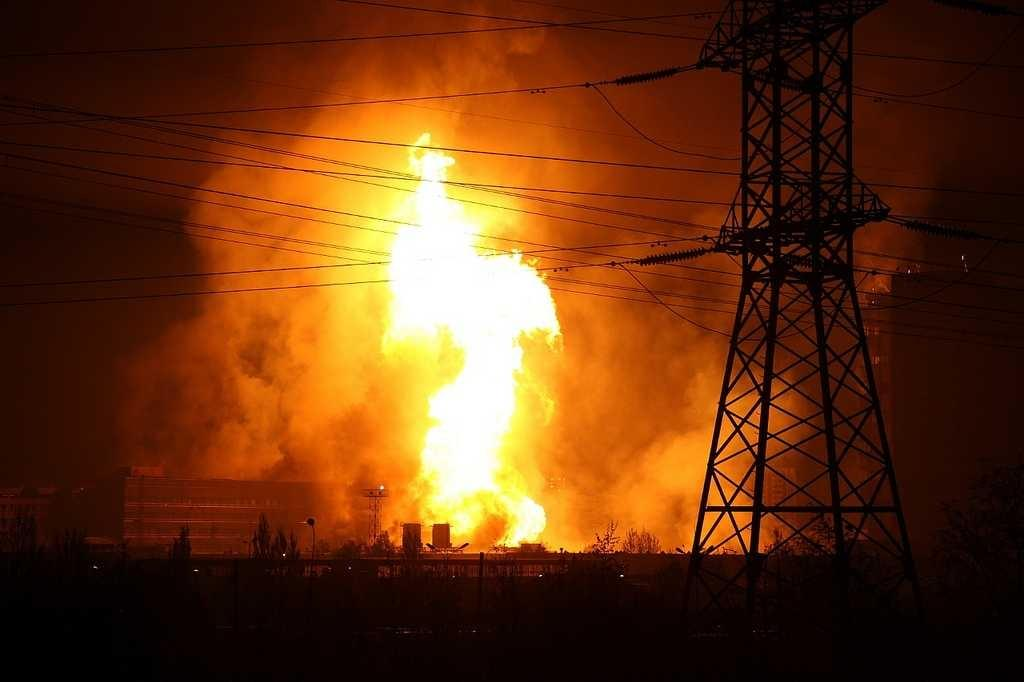fire: (395, 257, 550, 330), (438, 370, 512, 497), (407, 190, 477, 250), (442, 215, 445, 218)
